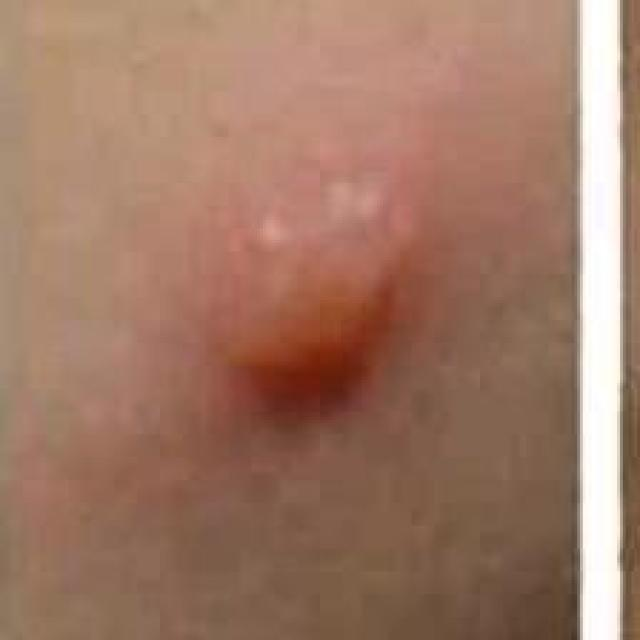others: (14, 5, 550, 632)
